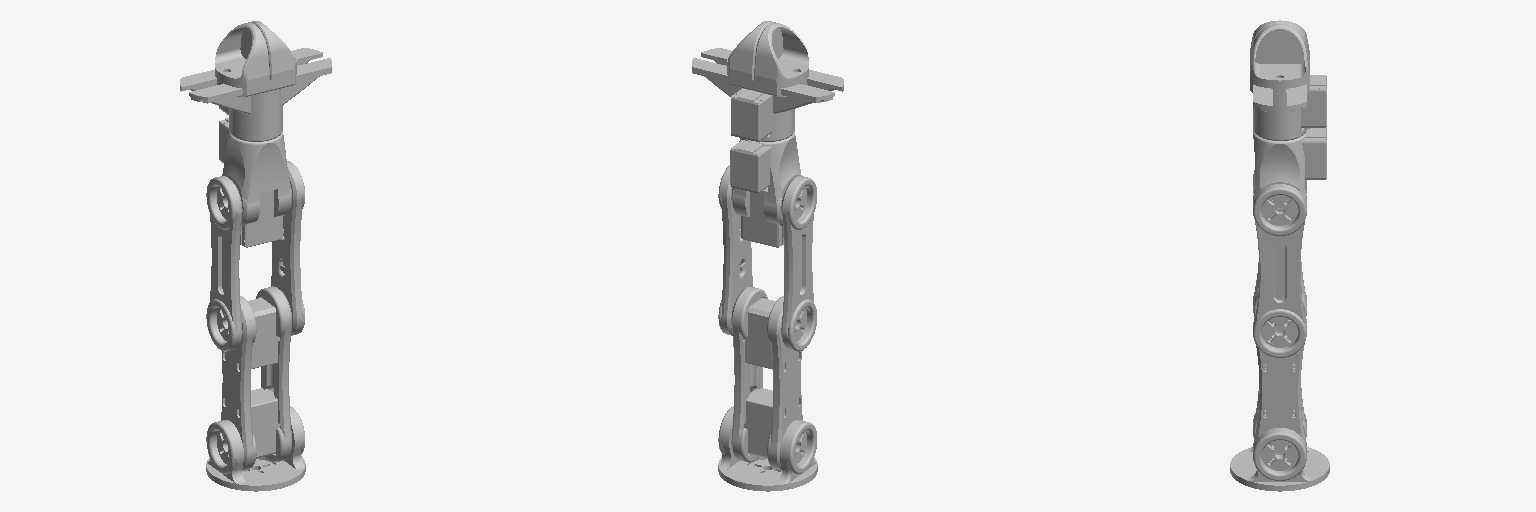
robot.urdf — visual:
<?xml version="1.0"?>
<robot name="visual">

  <material name="gray">
    <color rgba="0.3 0.3 0.3 1"/>
  </material>
  <material name="red">
    <color rgba="0.8 0 0 1"/>
  </material>
  <material name="white">
    <color rgba="0.8 0.8 0.8 1"/>
  </material>

  <link name="bottom_dummy" /> 

  <joint name="bottom_dummy" type="revolute">
    <origin xyz="0 0 0" rpy="0 0 0"/>
    <axis xyz="0 0 1"/>
    <limit effort="1000.0" lower="-3.14" upper="3.14" velocity="4.0"/>
    <parent link="bottom_dummy"/>
    <child link="bottom_mount"/>
  </joint>

  <link name="bottom_mount">
    <visual>
      <geometry>
        <mesh filename="meshes/bottom_mount.stl" scale="0.001 0.001 0.001" />     
      </geometry>
      <material name="white"/> 
      <origin xyz="0 0 0" rpy="0 0 0"/>
    </visual>
    <collision>
      <geometry>
        <mesh filename="meshes/bottom_mount.stl" scale="0.001 0.001 0.001" />
      </geometry>
      <material name="white"/> 
      <origin xyz="0 0 0" rpy="0 0 0"/>
    </collision>
  </link>

  <joint name="joint1" type="revolute">
    <origin xyz="0 0 0.0211" rpy="0 0 0"/>
    <axis xyz="1 0 0"/>
    <limit effort="1000.0" lower="-1.4" upper="1.4" velocity="4.8"/>
    <parent link="bottom_mount"/>
    <child link="link1_arm"/>
  </joint>

  <link name="link1_arm">
    <visual>
      <origin xyz="0 0 -0.01" rpy="3.14 0 0"/>
      <geometry>
        <mesh filename="meshes/link1_arm.stl" scale="0.001 0.001 0.001" />
      </geometry>
      <material name="white"/> 
    </visual>
    <collision>
      <geometry>
        <mesh filename="meshes/link1_arm.stl" scale="0.001 0.001 0.001" />
      </geometry>
      <material name="white"/>
      <origin xyz="0 0 -0.01" rpy="3.14 0 0"/> 
    </collision>
  </link>

  <joint name="joint2" type="revolute">
    <origin xyz="0 0 0.111" rpy="0 0 0"/>
    <axis xyz="1 0 0"/>
    <limit effort="1000.0" lower="-2.6" upper="2.6" velocity="4.0"/>
    <parent link="link1_arm"/>
    <child link="link2_arm"/>
  </joint>

  <link name="link2_arm">
    <visual>
      <geometry>
        <mesh filename="meshes/link2_arm.stl" scale="0.001 0.001 0.001" />
      </geometry>
      <material name="white"/>
      <origin xyz="0 0 -0.02" rpy="0 0 1.57"/>
    </visual>
    <collision>
      <geometry>
        <mesh filename="meshes/link2_arm.stl" scale="0.001 0.001 0.001" />
      </geometry>
      <material name="white"/>
      <origin xyz="0 0 -0.02" rpy="0 0 1.57 "/> 
    </collision>
  </link>

  <joint name="joint3" type="revolute">
    <origin xyz="0 0 0.1" rpy="0 0 0"/>
    <axis xyz="1 0 0"/>
    <limit effort="1000.0" lower="-2.6" upper="2.6" />
    <parent link="link2_arm"/>
    <child link="link3_wrist"/>
  </joint>

  <link name="link3_wrist">
    <visual>
      <geometry>
        <mesh filename="meshes/link3_wrist.stl" scale="0.001 0.001 0.001" />
      </geometry>
      <material name="white"/>
      <origin xyz="0 0 0" rpy="0 -1.57 0"/>
    </visual>
    <collision>
      <geometry>
        <mesh filename="meshes/link3_wrist.stl" scale="0.001 0.001 0.001" />
      </geometry>
      <material name="white"/>
      <origin xyz="0 0 0" rpy="0 -1.57 0" />
    </collision>
  </link>

  <joint name="joint4" type="fixed">
    <origin xyz="0 0 0.0524" rpy="-3.14 0 0" />
    <axis xyz="0 0 1" />
    <limit velocity="4.8" effort="1" lower="-3.14" upper="3.14" />
    <parent link="link3_wrist" />
    <child link="claw_mount" />
  </joint>

  <link name="claw_mount">
    <visual>
      <geometry>
        <mesh filename="meshes/claw_mount.stl" scale="0.001 0.001 0.001" />
      </geometry>
      <material name="white"/>
      <origin xyz="0 0 0" rpy="0 0 0" /> 
    </visual>
    <collision>
      <geometry>
        <mesh filename="meshes/claw_mount.stl" scale="0.001 0.001 0.001" />
      </geometry>
      <material name="white"/>
      <origin xyz="0 0 0" rpy="0 0 0" /> 
    </collision>
  </link>
  
  <joint name="gripper_left_joint" type="prismatic" >
    <origin xyz="0 0 0" rpy="0 0 3.14"/>
    <axis xyz="1 0 0"/>
    <limit effort="1000.0" lower="0.0" upper="0.03" velocity="4.0"/>
    <parent link="claw_mount"/>
    <child link="gripper_left_link"/>
  </joint>

  <link name="gripper_left_link">
    <visual>
      <geometry>
        <mesh filename="meshes/claw.stl" scale="0.001 0.001 0.001" />
      </geometry>
      <material name="white"/>
      <origin xyz="0 0 -0.04" rpy="0 0 0" /> 
    </visual>
    <collision>
      <geometry>
        <mesh filename="meshes/claw.stl" scale="0.001 0.001 0.001" />
      </geometry>
      <material name="white"/>
      <origin xyz="0 0 -0.04" rpy="0 0 0" /> 
    </collision>
  </link>

  <joint name="gripper_right_joint_mimic" type="fixed">
    <parent link="gripper_left_link" />
    <child link="dummy_mimic_fix" />
  </joint>

  <link name="dummy_mimic_fix"/>

  <joint name="gripper_right_joint" type="prismatic">
    <origin xyz="0 0 0" rpy="0 0 0"/>
    <axis xyz="1 0 0"/>
    <limit effort="1000.0" lower="0.0" upper="0.03" velocity="4.0"/>
    <parent link="claw_mount"/>
    <child link="gripper_right_link"/>
  </joint>

  <link name="gripper_right_link">
    <visual>
      <geometry>
        <mesh filename="meshes/claw.stl" scale="0.001 0.001 0.001" />
      </geometry>
      <material name="white"/>
      <origin xyz="0 0 -0.04" rpy="0 0 0" /> 
    </visual>
    <collision>
      <geometry>
        <mesh filename="meshes/claw.stl" scale="0.001 0.001 0.001" />
      </geometry>
      <material name="white"/>
      <origin xyz="0 0 -0.04" rpy="0 0 0" /> 
    </collision>
  </link>

</robot>

--- Render facts (derived) ---
Views: 3 orthographic renders of the robot side by side, from view 1: azimuth 30°, elevation 25°; view 2: azimuth 150°, elevation 25°; view 3: azimuth 270°, elevation 25°.
Robot: visual — 9 links, 8 joints (4 revolute, 2 prismatic, 2 fixed); root link bottom_dummy; default pose: every joint at zero.
Visible links, largest first — view 1: link1_arm, link2_arm, link3_wrist, claw_mount, bottom_mount, gripper_left_link, gripper_right_link; view 2: link1_arm, link2_arm, link3_wrist, claw_mount, bottom_mount, gripper_left_link, gripper_right_link; view 3: link2_arm, bottom_mount, link1_arm, link3_wrist, claw_mount, gripper_right_link.
Link boxes in pixels (x1,y1,x2,y2): link1_arm: (221, 286, 291, 470); link2_arm: (206, 161, 304, 351); link3_wrist: (219, 118, 291, 247); claw_mount: (180, 48, 331, 141); bottom_mount: (206, 406, 305, 491); gripper_left_link: (215, 22, 270, 97); gripper_right_link: (251, 21, 296, 90); link1_arm: (731, 287, 802, 470); link2_arm: (718, 165, 816, 351); link3_wrist: (730, 131, 801, 247); claw_mount: (692, 48, 843, 141); bottom_mount: (718, 406, 817, 491); gripper_left_link: (753, 22, 808, 96); gripper_right_link: (727, 21, 772, 90); link2_arm: (1253, 174, 1306, 357); bottom_mount: (1230, 413, 1329, 491); link1_arm: (1253, 293, 1306, 462); link3_wrist: (1253, 128, 1326, 217); claw_mount: (1253, 75, 1326, 140); gripper_right_link: (1250, 24, 1309, 94).
Bounding box of the posed robot: 0.1217 × 0.074 × 0.373 m (x, y, z).
Meshes: 6 distinct files referenced, 7 mesh visuals loaded (6 binary STL).